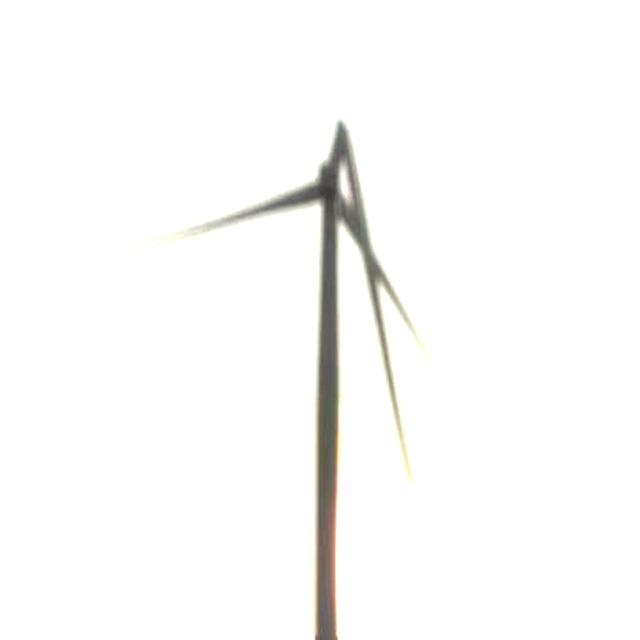crack: (331, 109, 416, 473)
